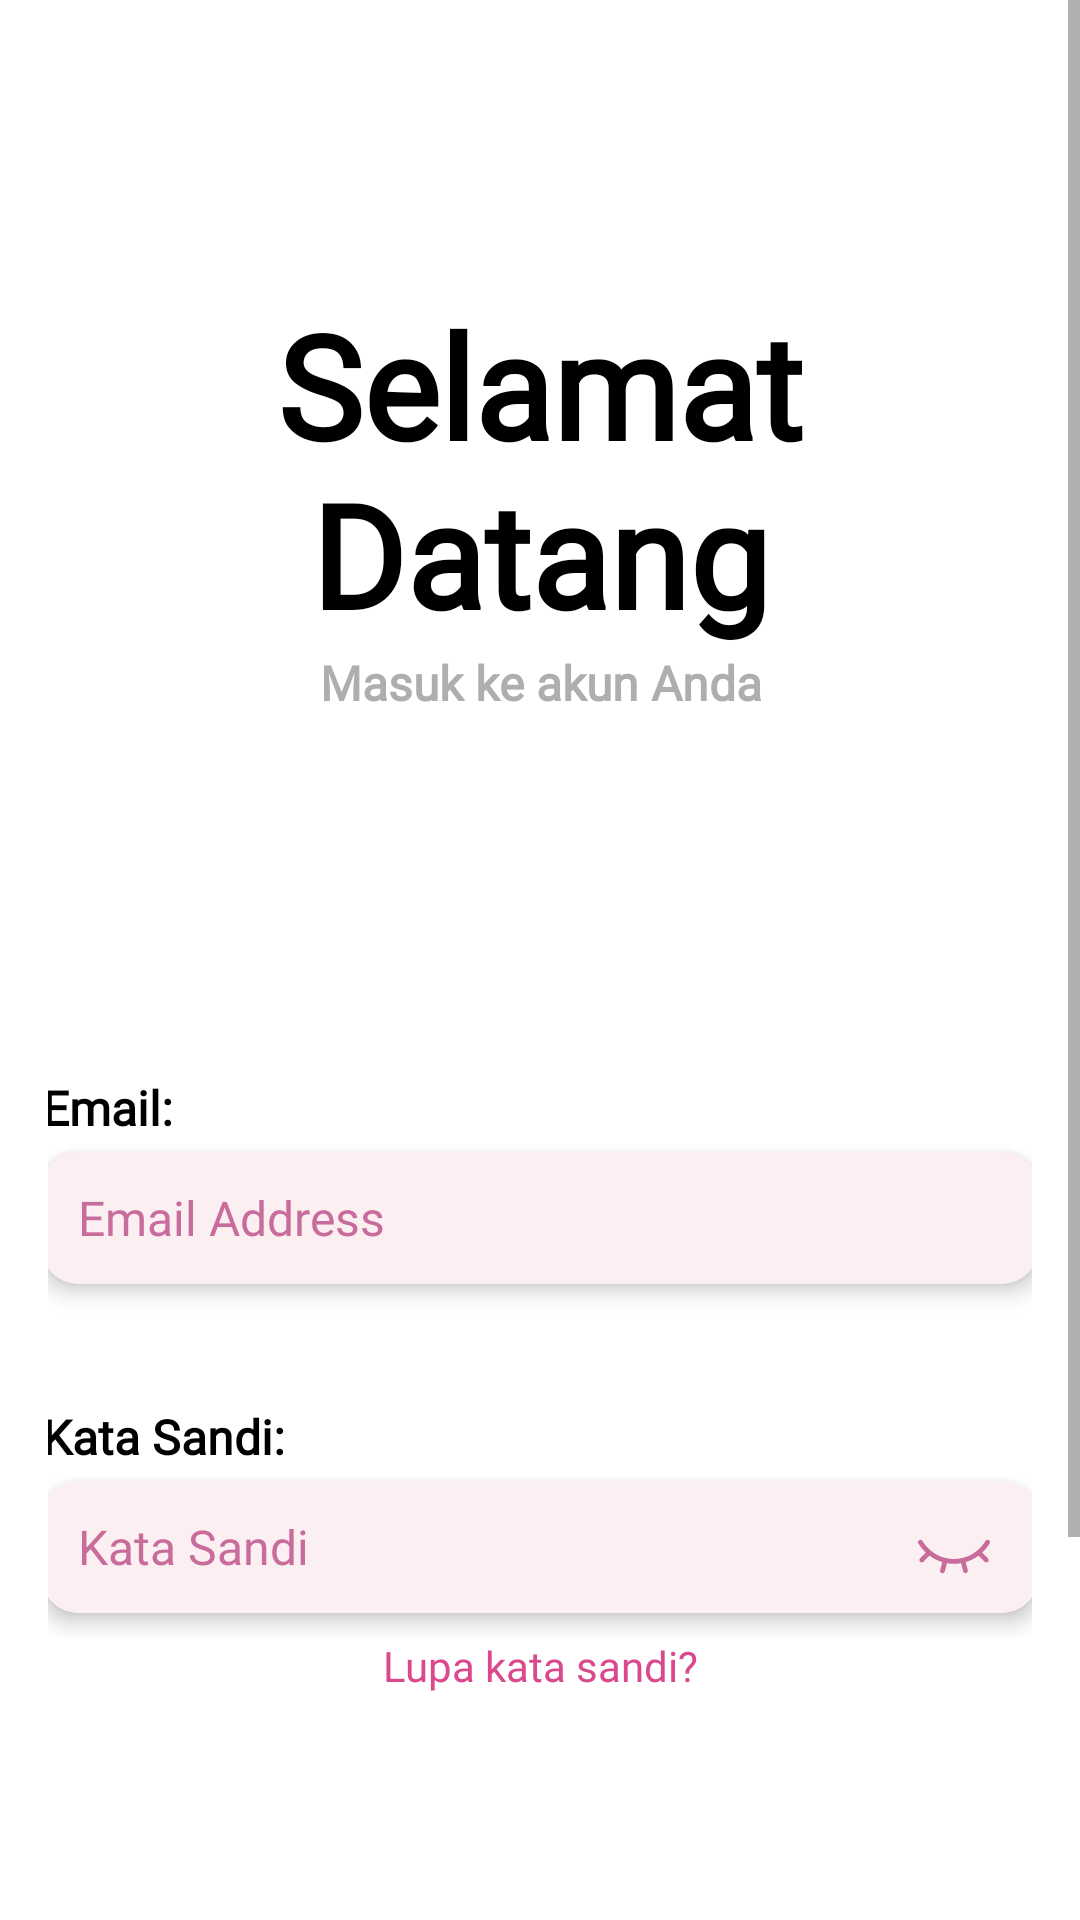

Screen size 1080 x 1920. Icon name, then its box in pixels as (x1, y1, x2, y2):
Toggle Password: (918, 1539, 990, 1574)
